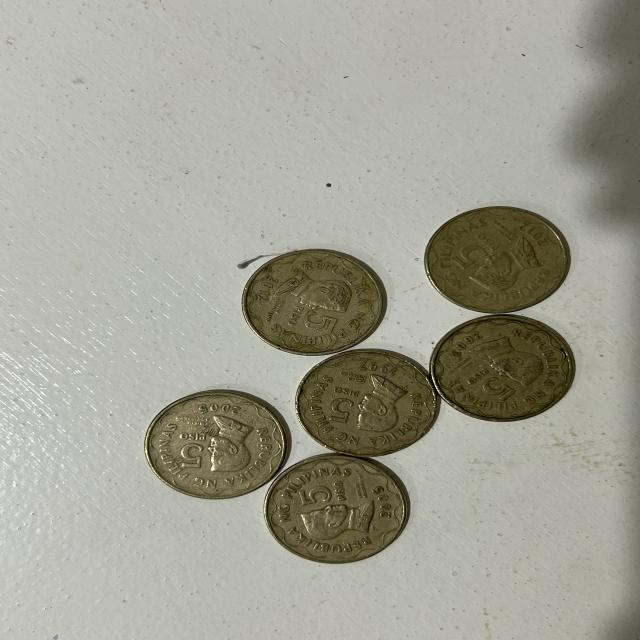5_Old_Front: (457, 365, 513, 413), (296, 480, 356, 514), (325, 379, 367, 424), (277, 302, 345, 329), (177, 430, 214, 474), (456, 236, 496, 272)
